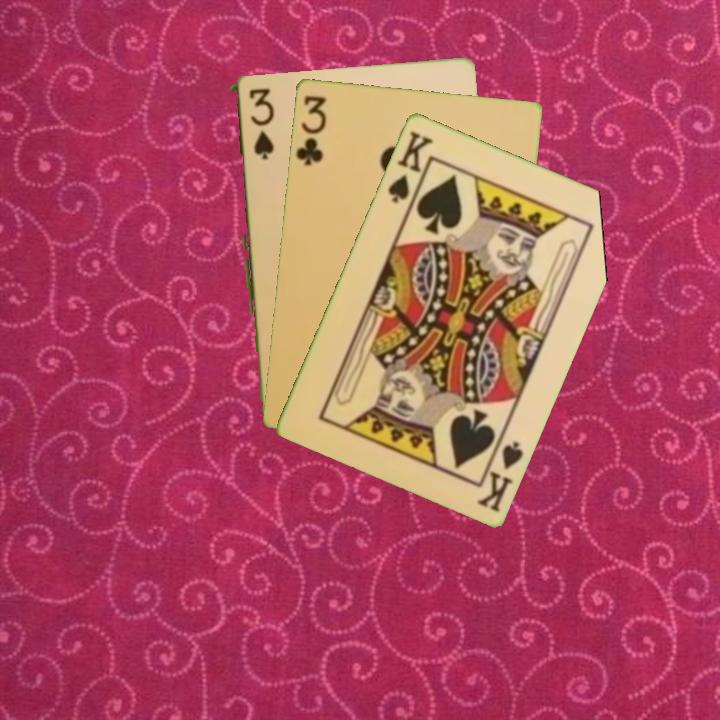3c: (291, 91, 329, 168)
3s: (245, 84, 272, 163)
Ks: (472, 429, 526, 515), (384, 126, 436, 206)
